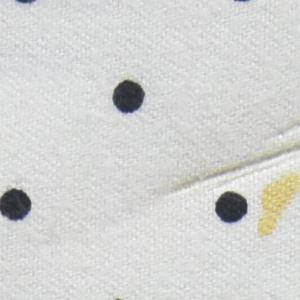Oil Stain: (157, 117, 300, 193)
Stain: (257, 172, 300, 237)
